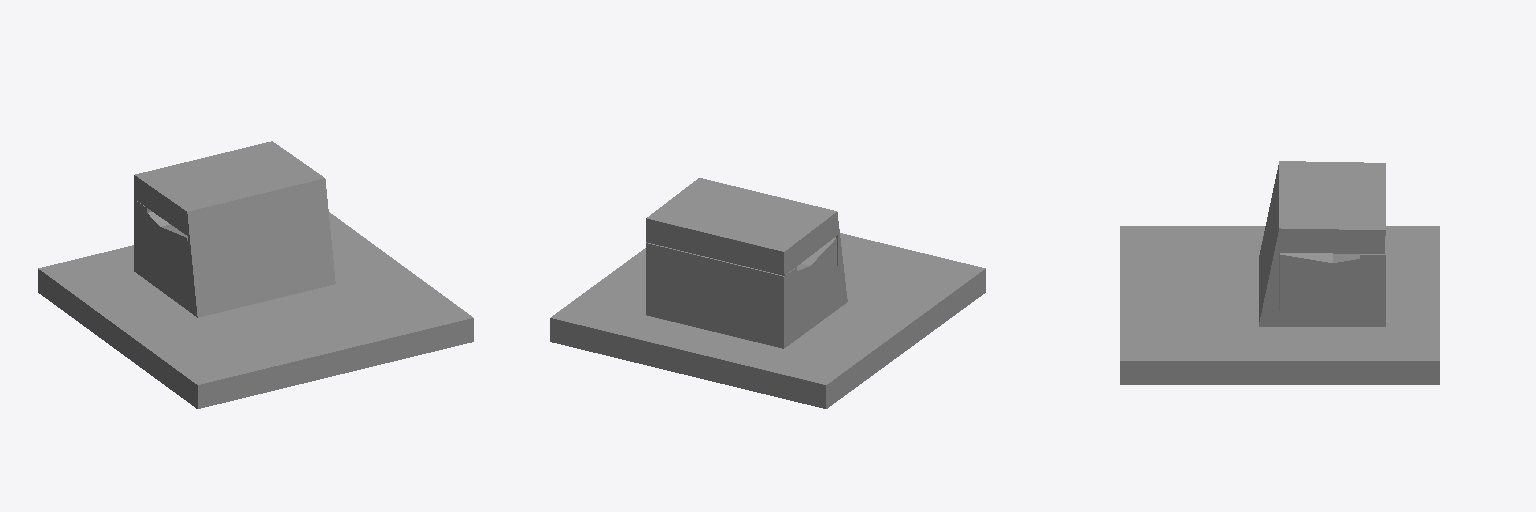
The model's file is portacenere_c.obj.
The picture shows the model from 3 angles: view 1: azimuth 30°, elevation 25°; view 2: azimuth 150°, elevation 25°; view 3: azimuth 270°, elevation 25°; orthographic projection.
Parts seen in each view (by area): view 1: nodebox4; view 2: nodebox4; view 3: nodebox4.
Part boxes in pixels (x1,y1,x2,y2): nodebox4: (38, 141, 473, 408); nodebox4: (550, 178, 985, 408); nodebox4: (1120, 161, 1439, 384).
Size of the model in its own units: 0.75 by 0.3177 by 0.75.